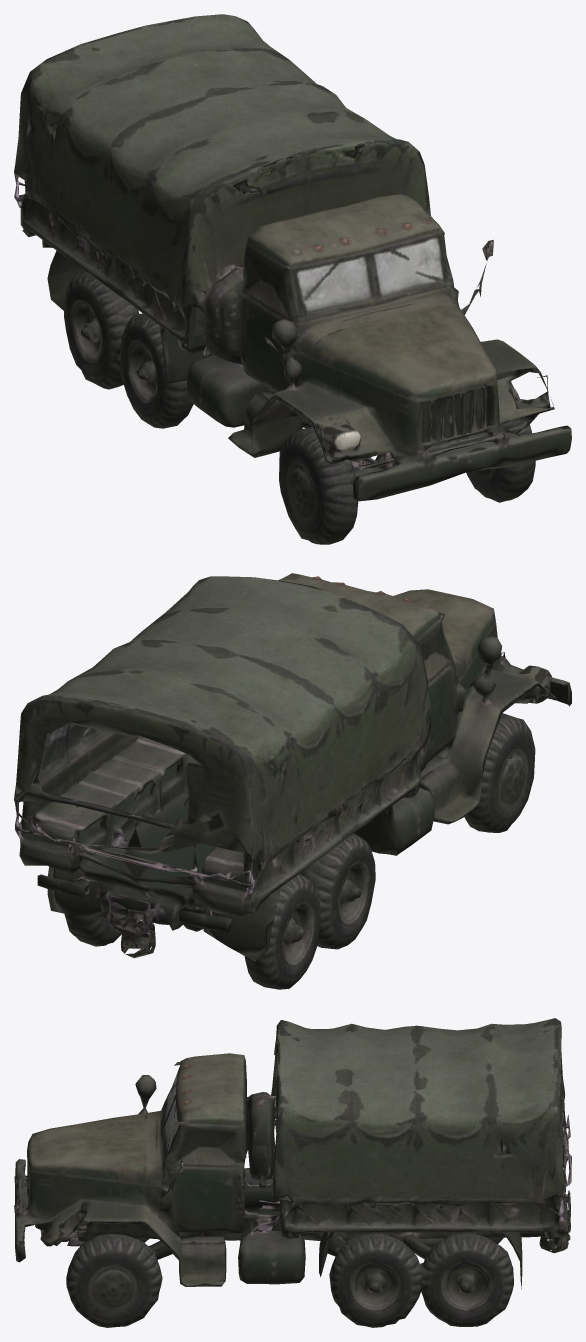
Rendered from truck_cargo.glb.
3 renders of one model, top to bottom at view 1: azimuth 30°, elevation 25°; view 2: azimuth 150°, elevation 25°; view 3: azimuth 270°, elevation 25°, orthographic. The views are drawn at different scales.
Bounding box in the file's own units: 0.4273 × 0.4768 × 0.9948.
1 material, 1 textured.
